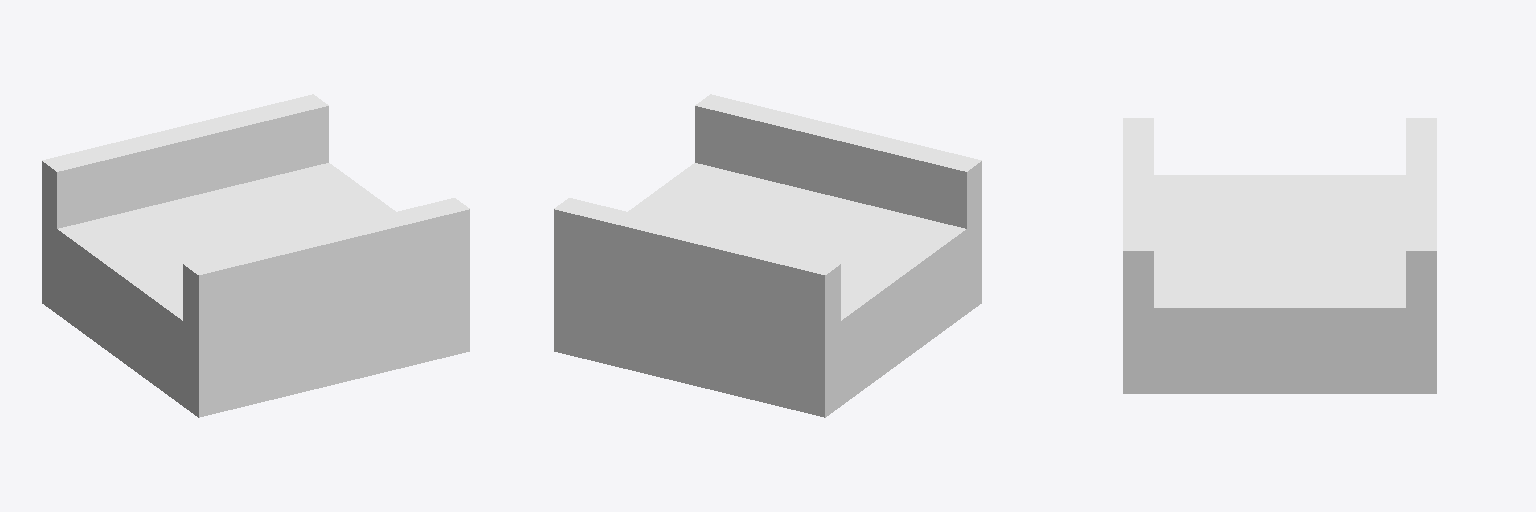
File: Ruazinha.obj
3 views of the same model, side by side, from view 1: azimuth 30°, elevation 25°; view 2: azimuth 150°, elevation 25°; view 3: azimuth 270°, elevation 25° (orthographic).
Size of the model in its own units: 10 by 5 by 10.